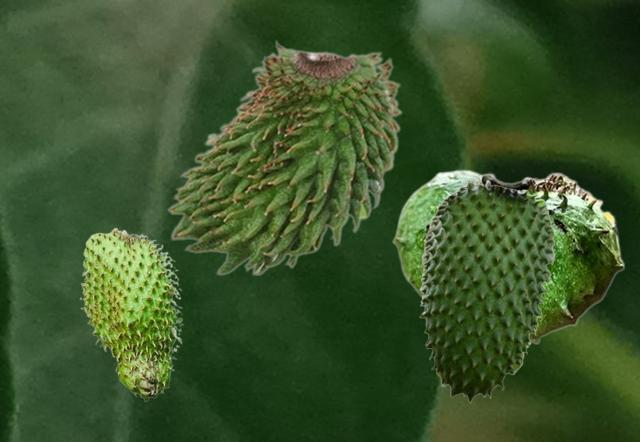guyabano: (166, 39, 402, 275), (392, 169, 624, 345), (419, 179, 554, 402), (79, 227, 183, 401)
